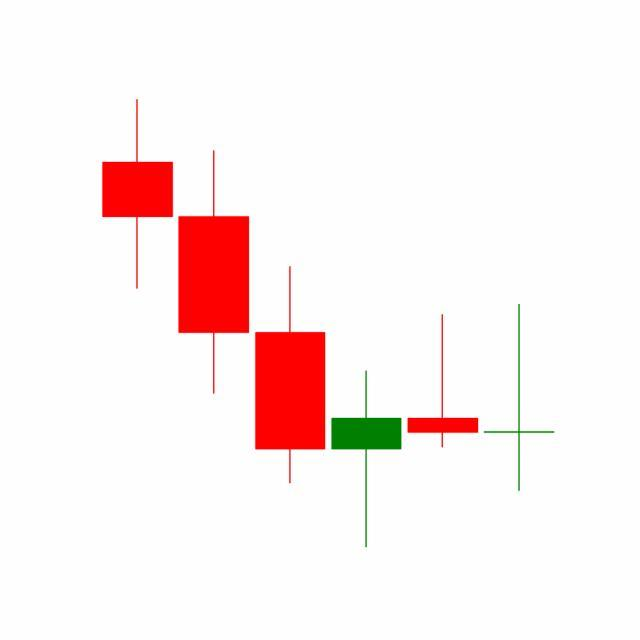Gravestone Doji: (404, 314, 482, 451)
